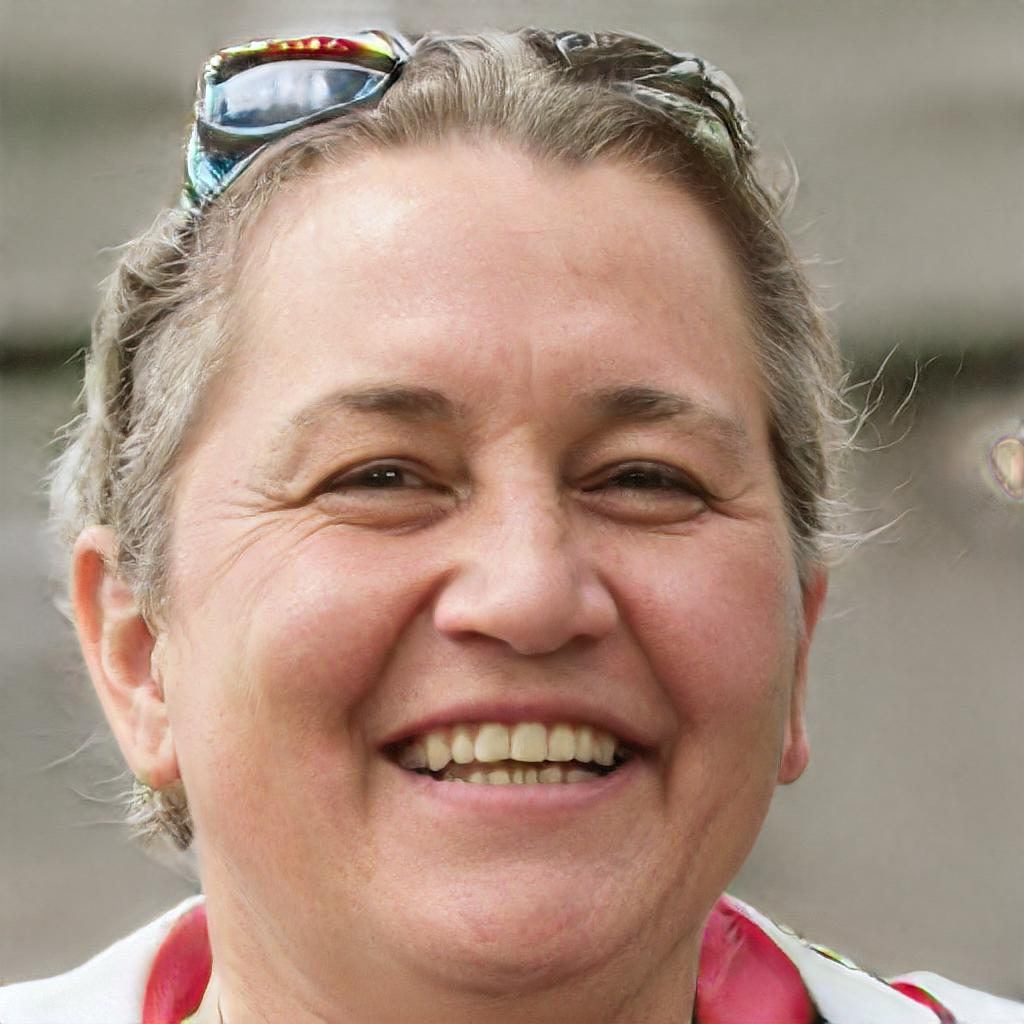face: (166, 146, 797, 985)
